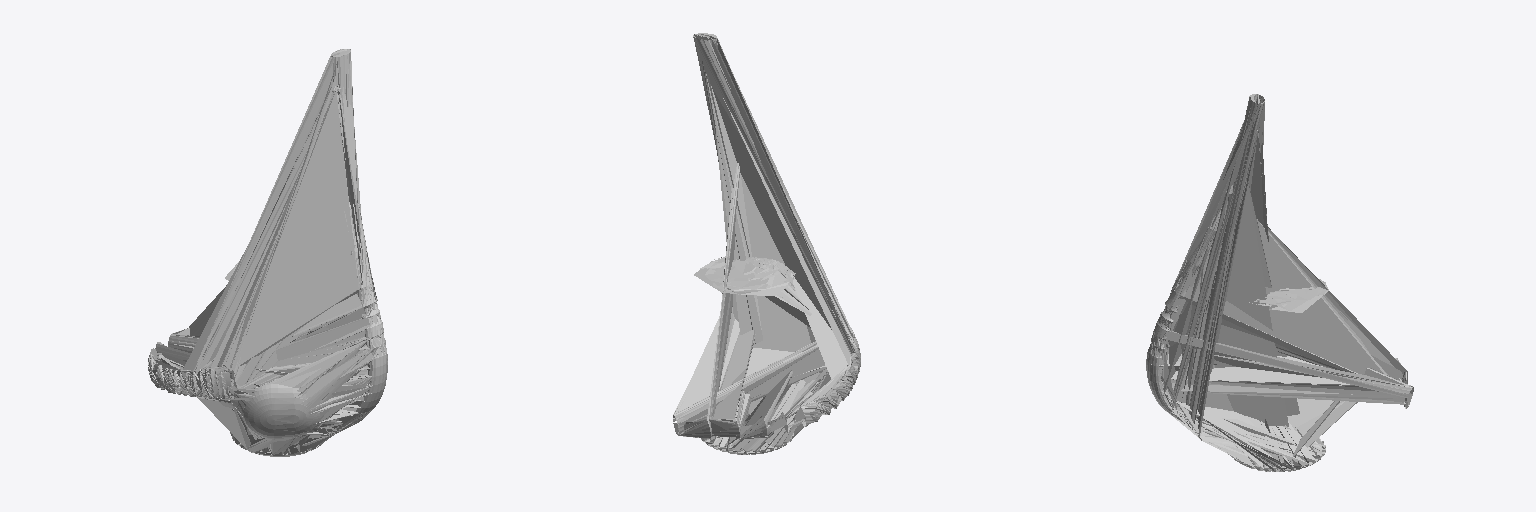
File: sight_modif.obj
The picture shows the model from 3 angles: view 1: azimuth 30°, elevation 25°; view 2: azimuth 150°, elevation 25°; view 3: azimuth 270°, elevation 25°; orthographic projection.
Parts seen in each view (by area): view 1: SighCoro_pivot, SighSkul_pivot, SighSkin_pivot, SighTe01_pivot, SighTe05_pivot, SighTe04_pivot, SighTe02_pivot, SighTe03_pivot; view 2: SighCoro_pivot, SighSkul_pivot; view 3: SighCoro_pivot, SighSkul_pivot, SighEsc1, SighEsc2, SighTe01_pivot.
Boxes of the visible parts, x1=… form: SighCoro_pivot: x1=148, y1=49, x2=386, y2=454; SighSkul_pivot: x1=193, y1=49, x2=386, y2=453; SighSkin_pivot: x1=242, y1=384, x2=320, y2=439; SighTe01_pivot: x1=236, y1=337, x2=387, y2=454; SighTe05_pivot: x1=248, y1=341, x2=385, y2=435; SighTe04_pivot: x1=244, y1=333, x2=385, y2=451; SighTe02_pivot: x1=258, y1=385, x2=373, y2=454; SighTe03_pivot: x1=254, y1=338, x2=374, y2=435; SighCoro_pivot: x1=673, y1=37, x2=860, y2=454; SighSkul_pivot: x1=693, y1=33, x2=859, y2=452; SighCoro_pivot: x1=1148, y1=94, x2=1413, y2=471; SighSkul_pivot: x1=1148, y1=94, x2=1325, y2=470; SighEsc1: x1=1175, y1=411, x2=1324, y2=470; SighEsc2: x1=1171, y1=407, x2=1325, y2=471; SighTe01_pivot: x1=1146, y1=331, x2=1320, y2=471.
Bounding box in the file's own units: 3.97 × 8.68 × 5.44.